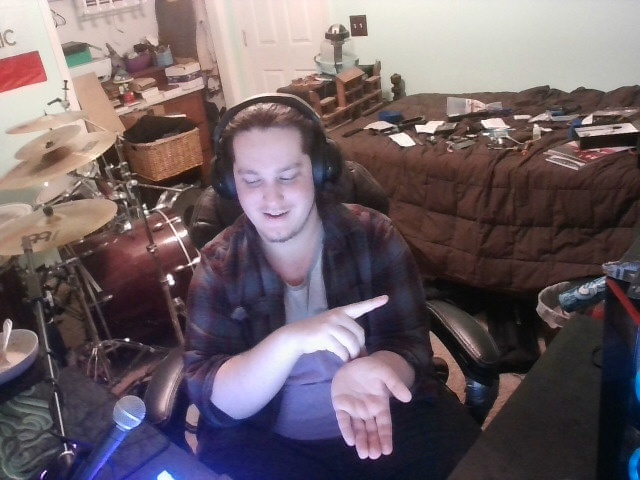doctor: (303, 290, 429, 477)
